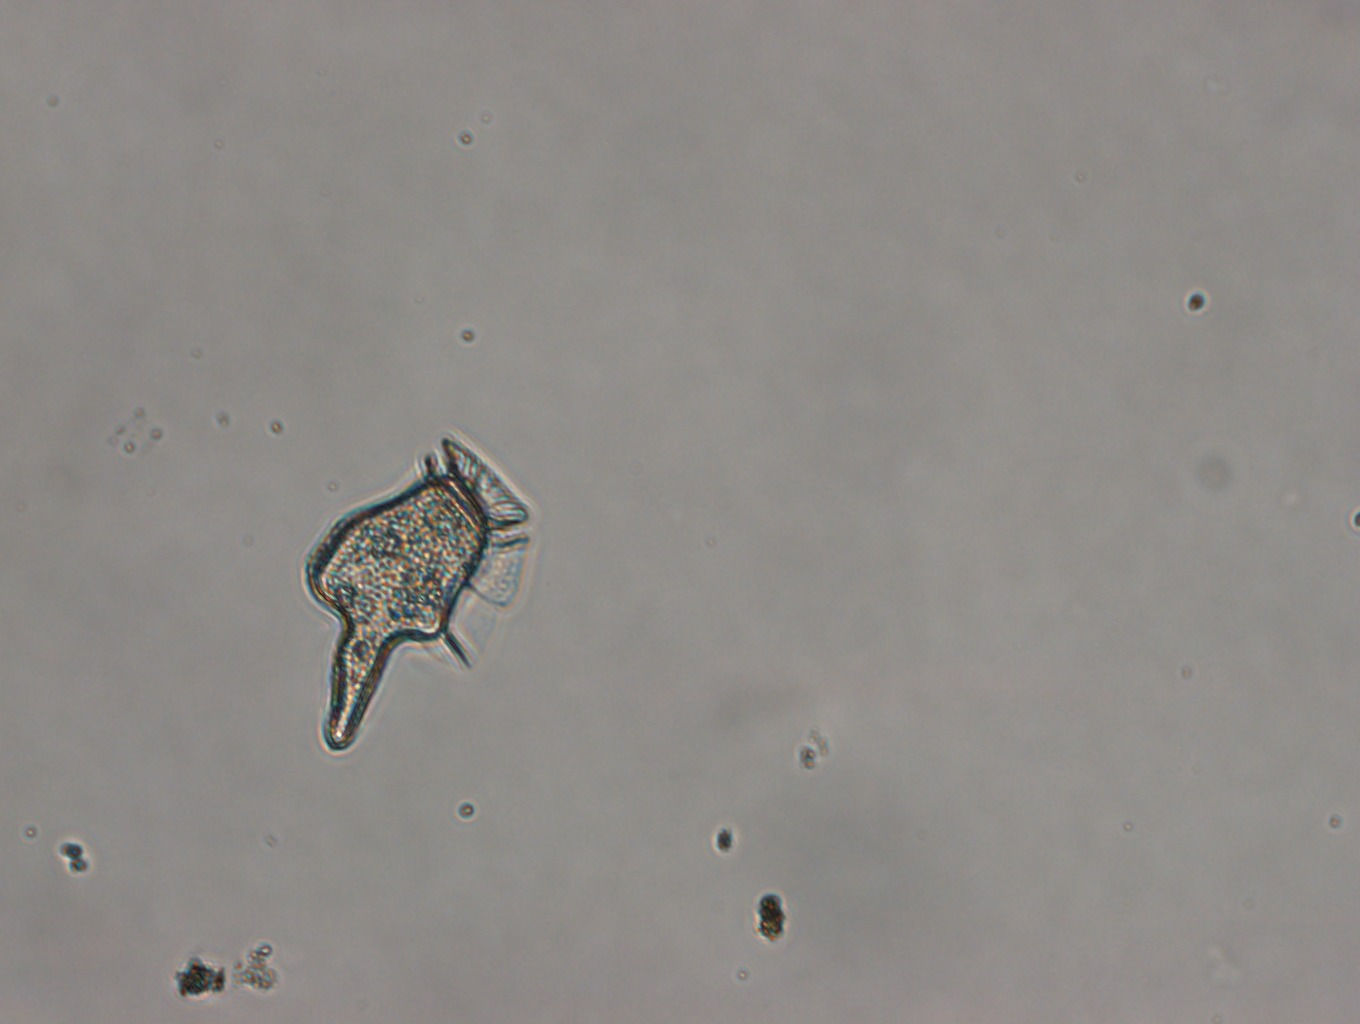dinophysis caudata: (300, 432, 541, 757)
